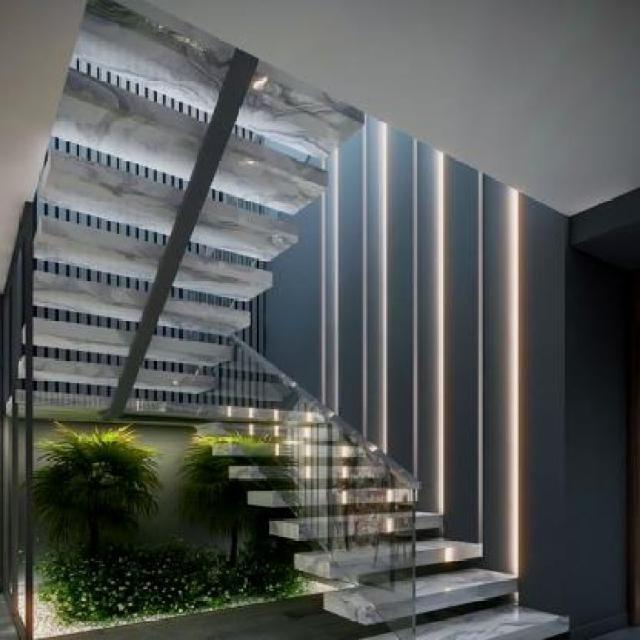stair: (198, 334, 558, 638)
